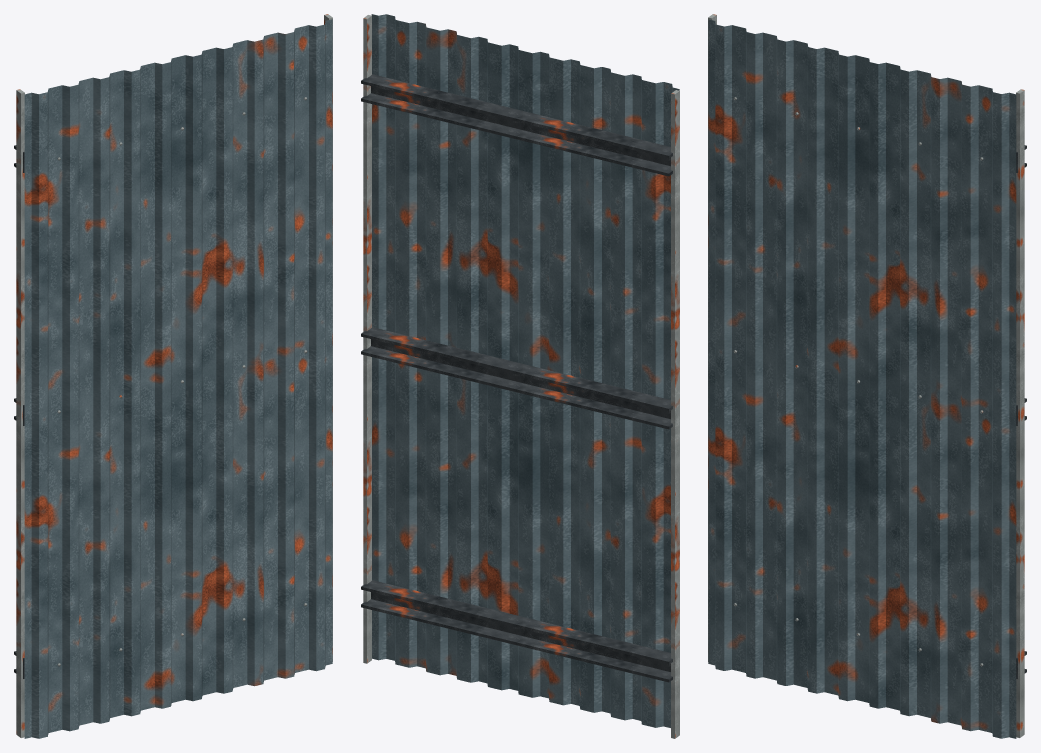
Rendered from WALL_2000x4000_HALF_BAY.glb.
3 views of the same model, side by side, from view 1: azimuth 30°, elevation 25°; view 2: azimuth 150°, elevation 25°; view 3: azimuth 330°, elevation 25° (orthographic).
Visible parts, largest first — view 1: WALL_2000x4000_HALF_BAY__Cladding_1p2mm_Corrugated, WALL_2000x4000_HALF_BAY__Joints_VerticalEdgeTrims; view 2: WALL_2000x4000_HALF_BAY__Cladding_1p2mm_Corrugated, WALL_2000x4000_HALF_BAY__Girt_CChannels_Three, WALL_2000x4000_HALF_BAY__Joints_VerticalEdgeTrims; view 3: WALL_2000x4000_HALF_BAY__Cladding_1p2mm_Corrugated, WALL_2000x4000_HALF_BAY__Joints_VerticalEdgeTrims.
Boxes of the visible parts, bbox=[...] form: WALL_2000x4000_HALF_BAY__Cladding_1p2mm_Corrugated: bbox=[24, 19, 332, 738]; WALL_2000x4000_HALF_BAY__Joints_VerticalEdgeTrims: bbox=[16, 14, 332, 737]; WALL_2000x4000_HALF_BAY__Cladding_1p2mm_Corrugated: bbox=[371, 14, 679, 727]; WALL_2000x4000_HALF_BAY__Girt_CChannels_Three: bbox=[361, 74, 672, 682]; WALL_2000x4000_HALF_BAY__Joints_VerticalEdgeTrims: bbox=[363, 15, 679, 738]; WALL_2000x4000_HALF_BAY__Cladding_1p2mm_Corrugated: bbox=[708, 19, 1016, 738]; WALL_2000x4000_HALF_BAY__Joints_VerticalEdgeTrims: bbox=[708, 14, 1024, 737].
Bounding box in the file's own units: 2.03 × 4 × 0.165.
Materials: 3 (3 with a texture image).
